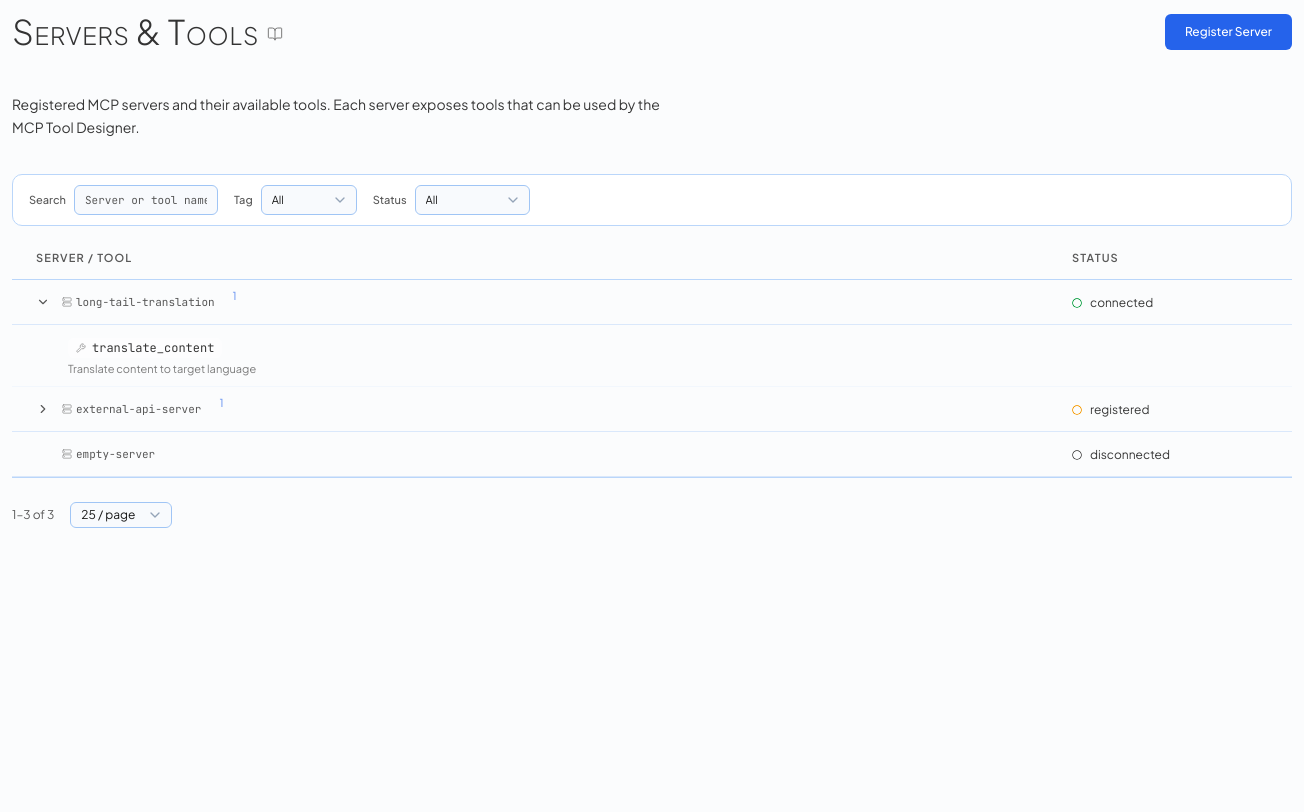
Test case: McpServersPage › shows tool description after expanding server
Expand external-api-server
Click the row "external-api-server registered" at (652, 409), box [12,386,1292,431]
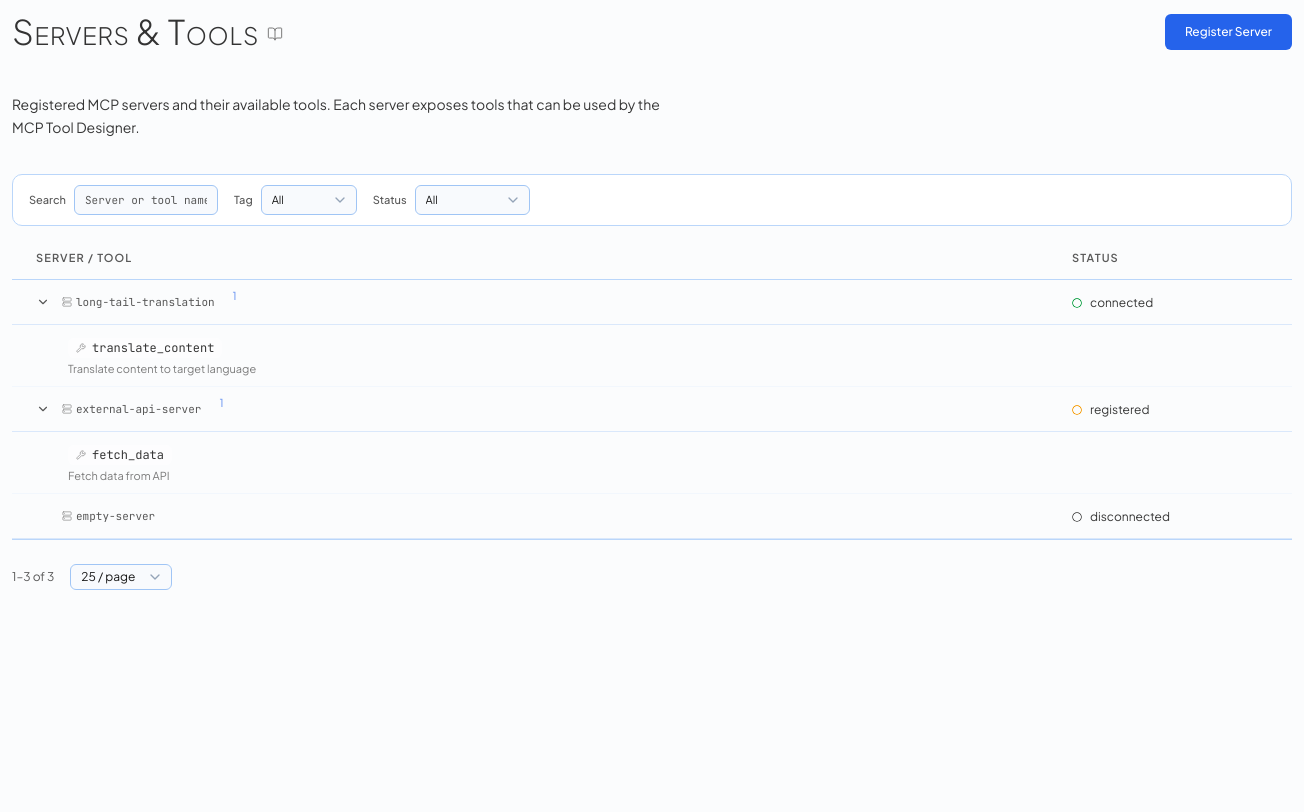
Expected: the text "fetch_data" is shown, [68,445,172,465]
